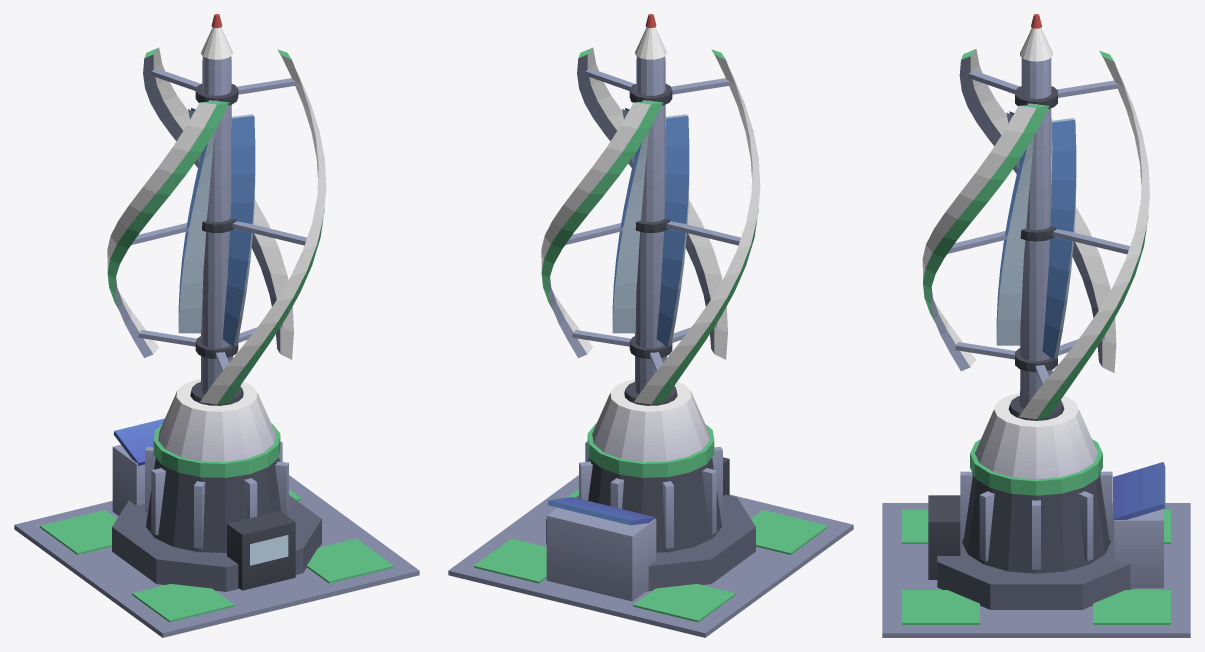
File: wind_turbine_vawt_1x1.glb
3 renders of one model, left to right at view 1: azimuth 30°, elevation 25°; view 2: azimuth 150°, elevation 25°; view 3: azimuth 270°, elevation 25°, orthographic. The views are drawn at different scales.
Visible parts, largest first — view 1: Base, Rotor; view 2: Base, Rotor; view 3: Base, Rotor.
Part boxes in pixels (box(x1,y1,x2,y2)): Base: box(14, 379, 419, 637); Rotor: box(107, 14, 326, 404); Base: box(448, 379, 853, 637); Rotor: box(541, 14, 760, 404); Base: box(882, 392, 1190, 637); Rotor: box(922, 14, 1149, 419).
Bounding box in the file's own units: 1.74 × 3.47 × 1.74.
Materials: 1 (1 with a texture image).
